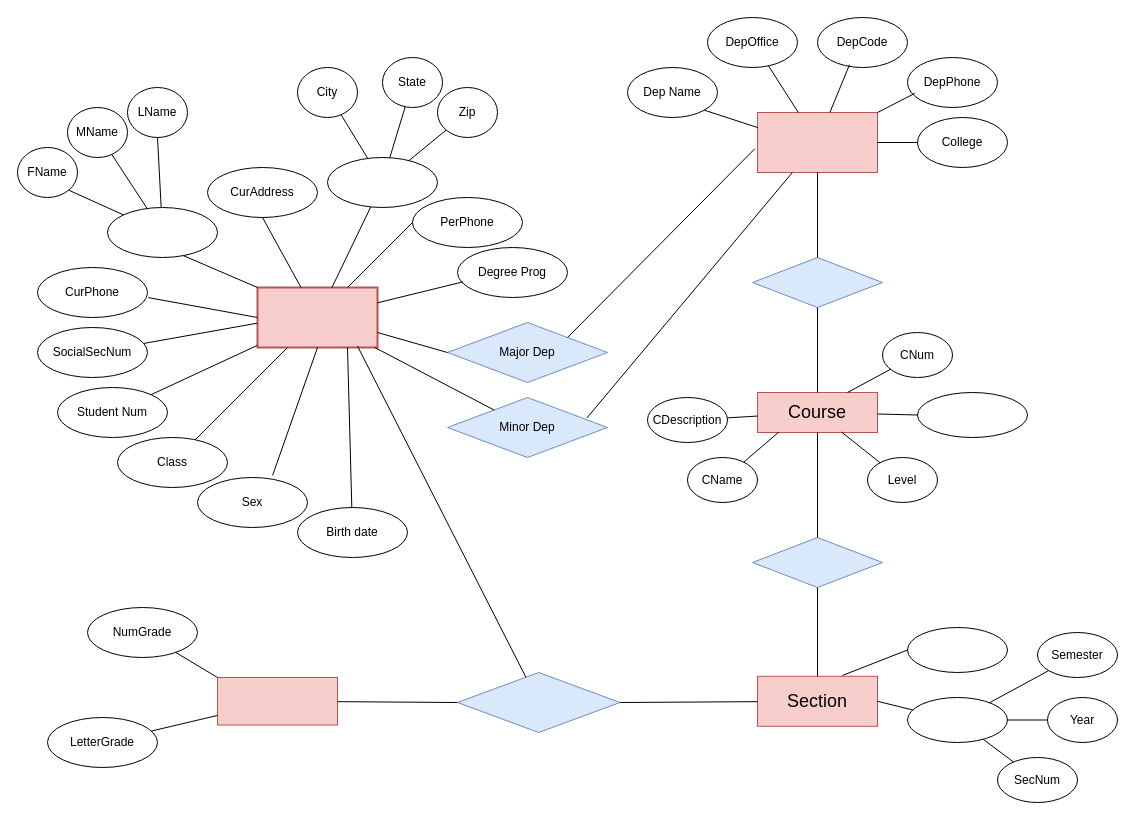
Some shapes in this 1135 by 820 pixel diagram are drawn without their labels. Each missing label, with the box of its shape:
CourseSection: (752, 536, 882, 588)
Department: (756, 112, 878, 172)
DepCourse: (752, 256, 882, 308)
Grade: (216, 676, 338, 725)
Instruction: (906, 626, 1008, 672)
NumSemHours: (916, 392, 1028, 438)
Partial Key: (906, 696, 1008, 742)
PerAddress: (326, 156, 438, 208)
Student: (256, 286, 378, 348)
Student Name: (106, 206, 218, 258)
StudentSection: (456, 672, 620, 732)
